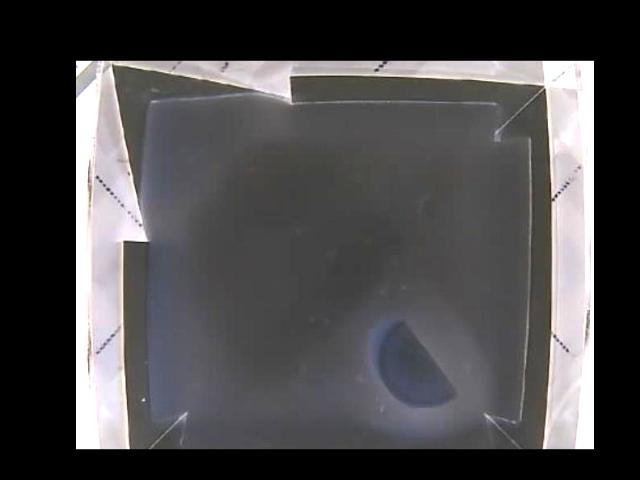Mooli: (372, 318, 460, 405)
